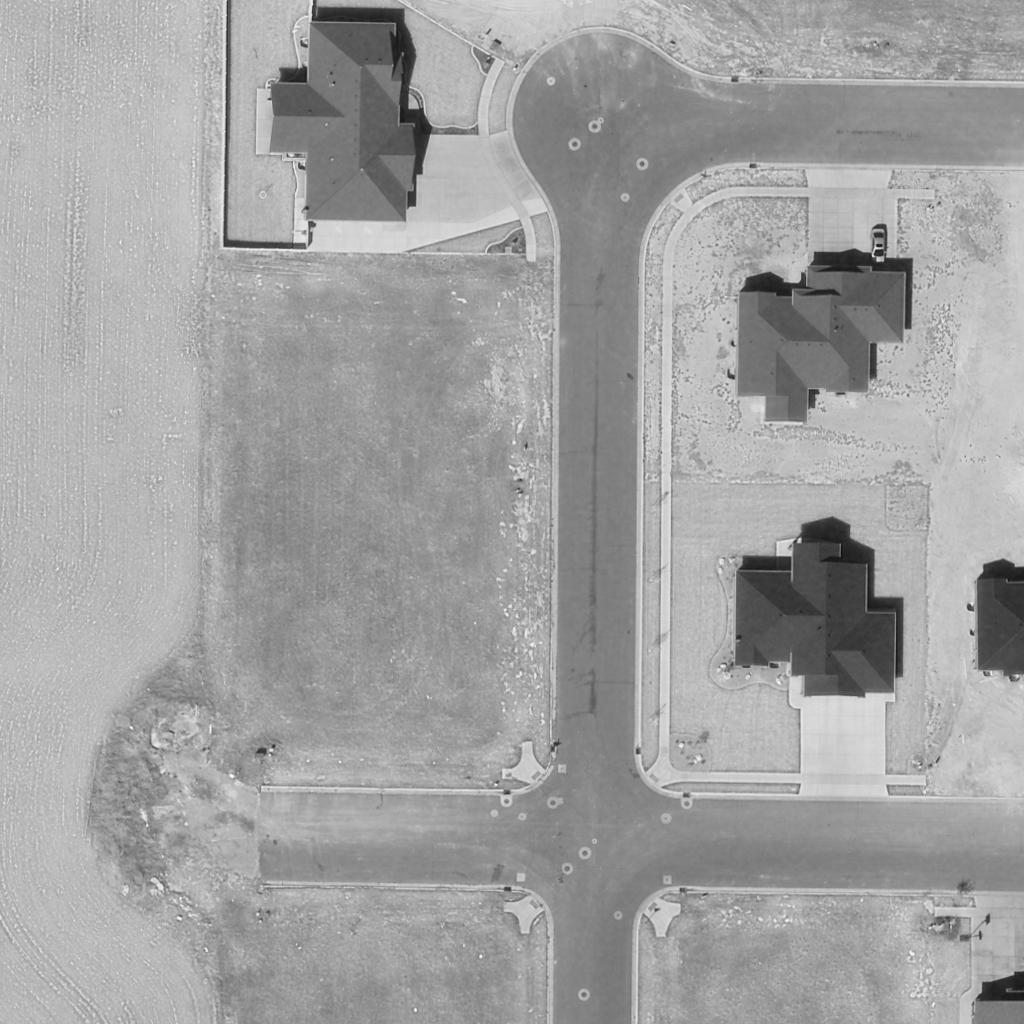vehicle: (870, 227, 888, 265)
